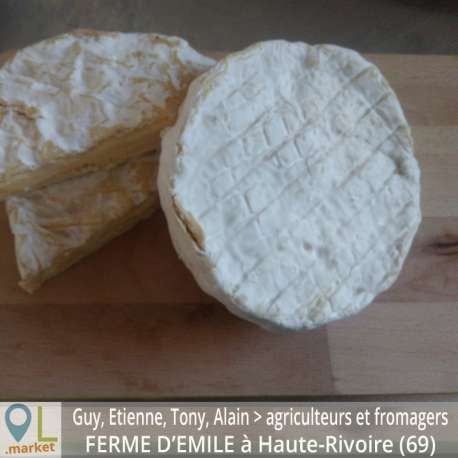camembert: (155, 37, 424, 331), (1, 27, 218, 204), (1, 155, 159, 305)
